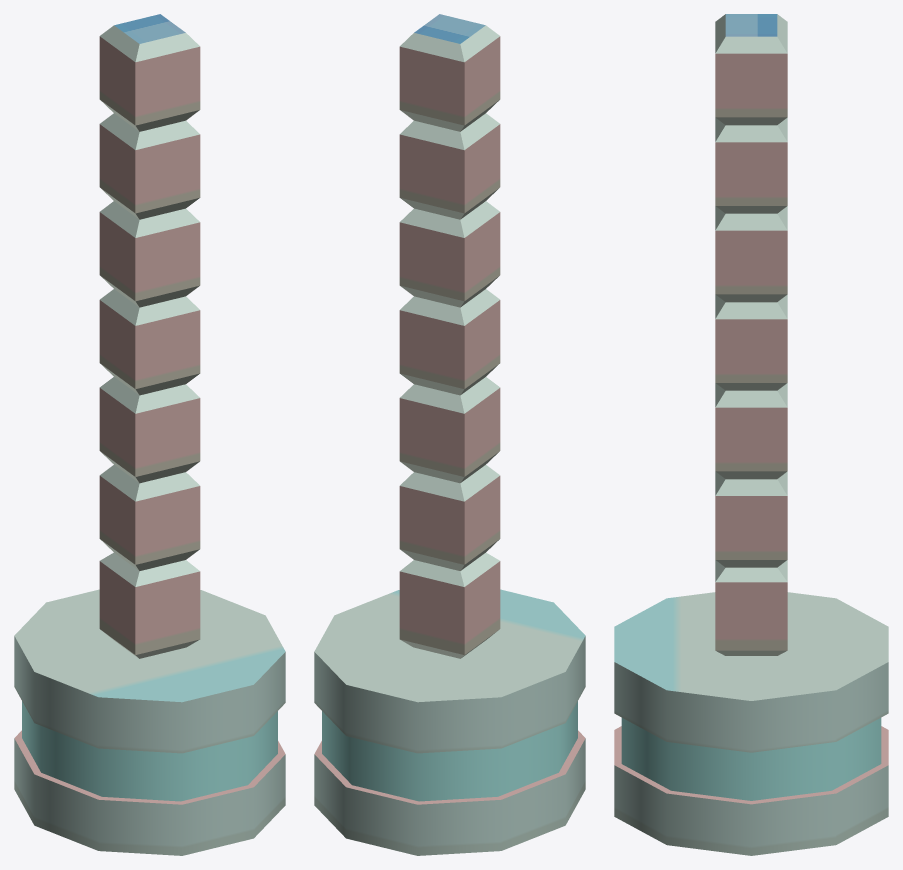
The model's file is weight_fromTop.fbx.
The picture shows the model from 3 angles, left to right: view 1: azimuth 30°, elevation 25°; view 2: azimuth 150°, elevation 25°; view 3: azimuth 270°, elevation 25°; orthographic projection.
Visible parts, largest first — view 1: support, weight; view 2: support, weight; view 3: weight, support.
Boxes of the visible parts, x1,y1,x2,y2 form: support: [99, 14, 200, 658]; weight: [14, 589, 285, 855]; support: [399, 14, 500, 658]; weight: [314, 589, 585, 855]; weight: [614, 592, 888, 855]; support: [715, 14, 787, 655].
Size of the model in its own units: 3.94 by 12.49 by 4.02.
